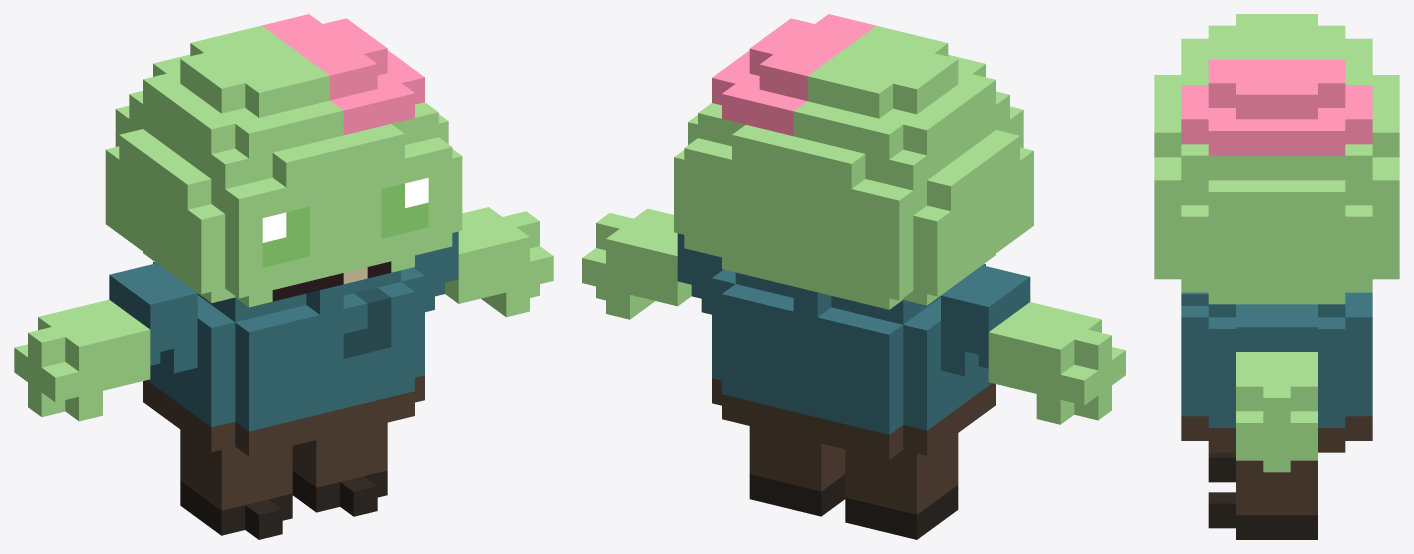
Rendered from Enemy_Zombie.glb.
3 renders of one model, left to right at view 1: azimuth 30°, elevation 25°; view 2: azimuth 150°, elevation 25°; view 3: azimuth 270°, elevation 25°, orthographic.
Visible parts, largest first — view 1: head_skin_zombie_9CC98A, torso_shirt_teal_3F7F8C, arm_L_skin_zombie_9CC98A, head_brain_pink_F29BB5, arm_R_skin_zombie_9CC98A, torso_pants_brown_5B4636, arm_L_shirt_teal_3F7F8C, leg_L_pants_brown_5B4636, leg_R_pants_brown_5B4636, head_eye_black_120C1F, leg_L_shoe_dark_2E2620, leg_R_shoe_dark_2E2620 (+4 smaller); view 2: head_skin_zombie_9CC98A, torso_shirt_teal_3F7F8C, arm_L_skin_zombie_9CC98A, head_brain_pink_F29BB5, arm_R_skin_zombie_9CC98A, torso_pants_brown_5B4636, arm_L_shirt_teal_3F7F8C, leg_L_pants_brown_5B4636, leg_R_pants_brown_5B4636, leg_L_shoe_dark_2E2620, leg_R_shoe_dark_2E2620, arm_R_shirt_teal_3F7F8C; view 3: head_skin_zombie_9CC98A, head_brain_pink_F29BB5, torso_shirt_teal_3F7F8C, arm_R_skin_zombie_9CC98A, leg_R_pants_brown_5B4636, arm_R_shirt_teal_3F7F8C, leg_R_shoe_dark_2E2620, torso_pants_brown_5B4636, leg_L_shoe_dark_2E2620, torso_shirt_dark_2C5A63.
Part boxes in pixels (<box>): head_skin_zombie_9CC98A: <box>105,25,462,307</box>; torso_shirt_teal_3F7F8C: <box>147,261,424,431</box>; arm_L_skin_zombie_9CC98A: <box>14,299,150,421</box>; head_brain_pink_F29BB5: <box>262,14,424,135</box>; arm_R_skin_zombie_9CC98A: <box>445,207,553,317</box>; torso_pants_brown_5B4636: <box>143,375,424,456</box>; arm_L_shirt_teal_3F7F8C: <box>109,263,197,373</box>; leg_L_pants_brown_5B4636: <box>180,429,292,510</box>; leg_R_pants_brown_5B4636: <box>292,422,387,487</box>; head_eye_black_120C1F: <box>262,183,428,267</box>; leg_L_shoe_dark_2E2620: <box>180,481,292,539</box>; leg_R_shoe_dark_2E2620: <box>292,470,387,516</box>; head_skin_zombie_9CC98A: <box>674,25,1033,309</box>; torso_shirt_teal_3F7F8C: <box>712,264,991,434</box>; arm_L_skin_zombie_9CC98A: <box>988,302,1125,424</box>; head_brain_pink_F29BB5: <box>712,14,875,136</box>; arm_R_skin_zombie_9CC98A: <box>582,208,691,319</box>; torso_pants_brown_5B4636: <box>712,378,995,459</box>; arm_L_shirt_teal_3F7F8C: <box>941,265,1030,376</box>; leg_L_pants_brown_5B4636: <box>845,433,958,514</box>; leg_R_pants_brown_5B4636: <box>749,426,845,491</box>; leg_L_shoe_dark_2E2620: <box>845,485,958,539</box>; leg_R_shoe_dark_2E2620: <box>749,474,845,516</box>; arm_R_shirt_teal_3F7F8C: <box>677,233,723,314</box>; head_skin_zombie_9CC98A: <box>1154,14,1399,304</box>; head_brain_pink_F29BB5: <box>1181,60,1372,155</box>; torso_shirt_teal_3F7F8C: <box>1181,292,1372,427</box>; arm_R_skin_zombie_9CC98A: <box>1236,352,1317,472</box>; leg_R_pants_brown_5B4636: <box>1236,460,1317,515</box>; arm_R_shirt_teal_3F7F8C: <box>1236,304,1317,351</box>; leg_R_shoe_dark_2E2620: <box>1208,492,1317,539</box>; torso_pants_brown_5B4636: <box>1181,416,1372,452</box>; leg_L_shoe_dark_2E2620: <box>1208,452,1235,482</box>; torso_shirt_dark_2C5A63: <box>1181,294,1208,305</box>.
Size of the model in its own units: 1.68 by 1.44 by 0.72.
